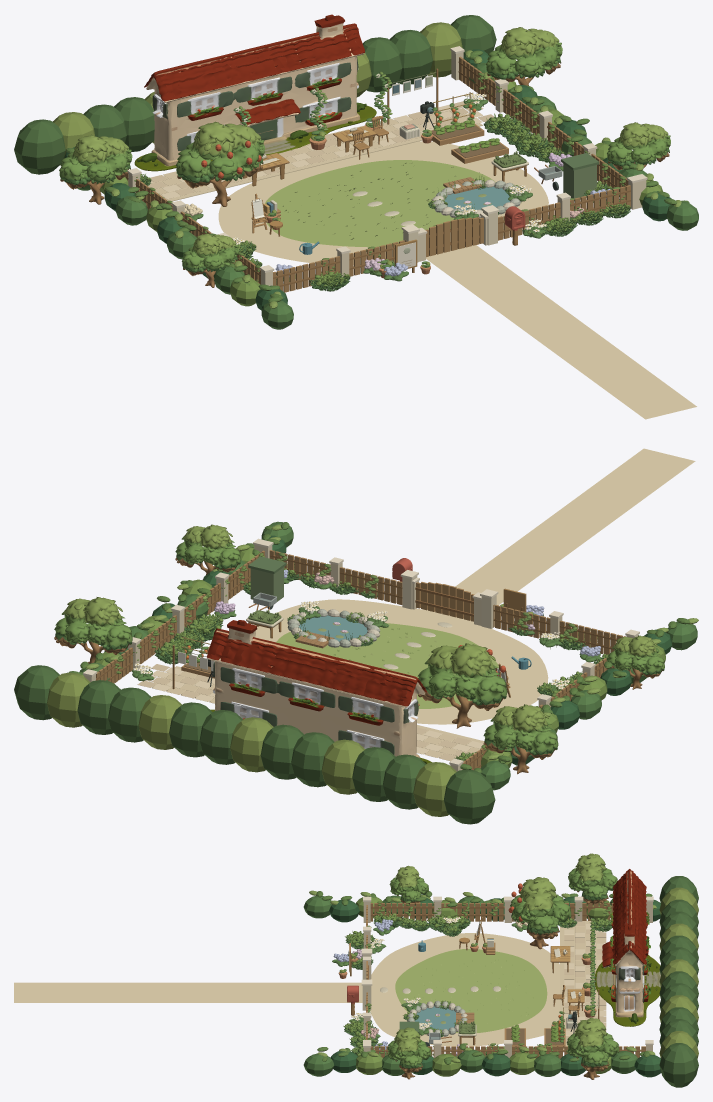
3 views of the same model, one above another, from view 1: azimuth 30°, elevation 25°; view 2: azimuth 150°, elevation 25°; view 3: azimuth 270°, elevation 25° (orthographic). The views are drawn at different scales.
Parts seen in each view (by area): view 1: house, lawn, approach, details_516e42, path, appleTree, details_587b49, borderTree.001, borderTree, details_81924e, details_416743, borderTree.003 (+13 smaller); view 2: house, details_516e42, approach, details_81924e, path, appleTree, lawn, borderTree.001, borderTree, details_587b49, borderTree.003, details_416743 (+13 smaller); view 3: lawn, approach, house, path, details_516e42, details_587b49, details_416743, appleTree, details_81924e, details_78924d, borderTree.001, borderTree (+13 smaller).
Boxes of the visible parts, x1=… form: house: x1=134, y1=14, x2=376, y2=171; lawn: x1=265, y1=160, x2=495, y2=247; approach: x1=426, y1=245, x2=696, y2=419; details_516e42: x1=14, y1=15, x2=496, y2=174; path: x1=218, y1=141, x2=548, y2=264; appleTree: x1=175, y1=121, x2=264, y2=206; details_587b49: x1=77, y1=63, x2=698, y2=329; borderTree.001: x1=485, y1=27, x2=562, y2=85; borderTree: x1=59, y1=134, x2=132, y2=204; details_81924e: x1=52, y1=22, x2=462, y2=164; details_416743: x1=64, y1=49, x2=671, y2=310; borderTree.003: x1=607, y1=122, x2=670, y2=170; house: x1=206, y1=620, x2=431, y2=763; details_516e42: x1=14, y1=665, x2=495, y2=824; approach: x1=415, y1=448, x2=695, y2=619; details_81924e: x1=47, y1=672, x2=456, y2=816; path: x1=254, y1=599, x2=548, y2=724; appleTree: x1=417, y1=643, x2=507, y2=728; lawn: x1=276, y1=623, x2=498, y2=708; borderTree.001: x1=54, y1=597, x2=132, y2=663; borderTree: x1=483, y1=704, x2=558, y2=774; details_587b49: x1=79, y1=521, x2=697, y2=790; borderTree.003: x1=175, y1=524, x2=241, y2=579; details_416743: x1=67, y1=535, x2=671, y2=769; lawn: x1=395, y1=949, x2=547, y2=1032; approach: x1=14, y1=982, x2=381, y2=1002; house: x1=594, y1=869, x2=660, y2=1026; path: x1=370, y1=933, x2=559, y2=1046; details_516e42: x1=659, y1=876, x2=698, y2=1087; details_587b49: x1=303, y1=895, x2=637, y2=1076; details_416743: x1=329, y1=896, x2=661, y2=1077; appleTree: x1=510, y1=877, x2=571, y2=949; details_81924e: x1=659, y1=887, x2=698, y2=1058; details_78924d: x1=356, y1=897, x2=611, y2=1076; borderTree.001: x1=566, y1=1018, x2=619, y2=1079; borderTree: x1=568, y1=853, x2=617, y2=905.
Size of what is drawn, in the model's own units: 32.63 by 7.3 by 48.5.
Materials: 103 (1 with a texture image).
